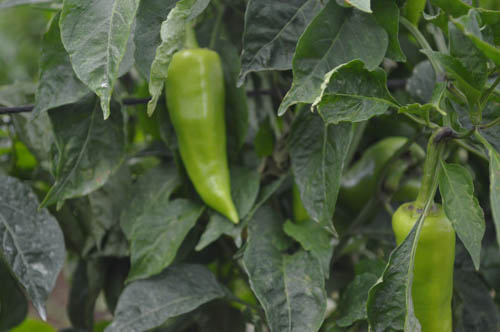ChiliPepper: (156, 53, 239, 222), (390, 206, 456, 329)
